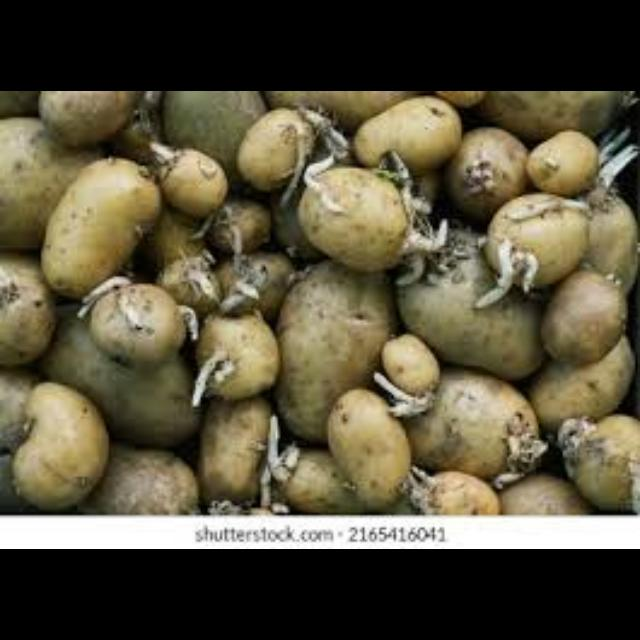Sprouted potato: (278, 150, 452, 286), (396, 362, 554, 496), (70, 273, 200, 375), (472, 185, 586, 292), (188, 302, 288, 411), (236, 102, 348, 198), (245, 420, 359, 514), (132, 126, 238, 224), (354, 106, 491, 174), (550, 412, 640, 506), (529, 120, 633, 200), (205, 250, 302, 322), (388, 459, 504, 516), (368, 337, 444, 423)
